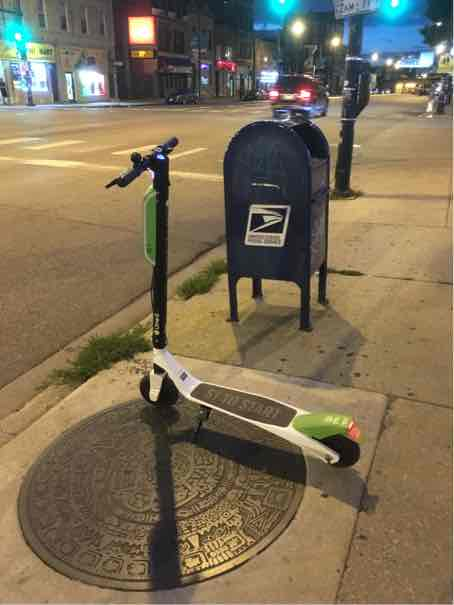scooter: (101, 119, 371, 468)
